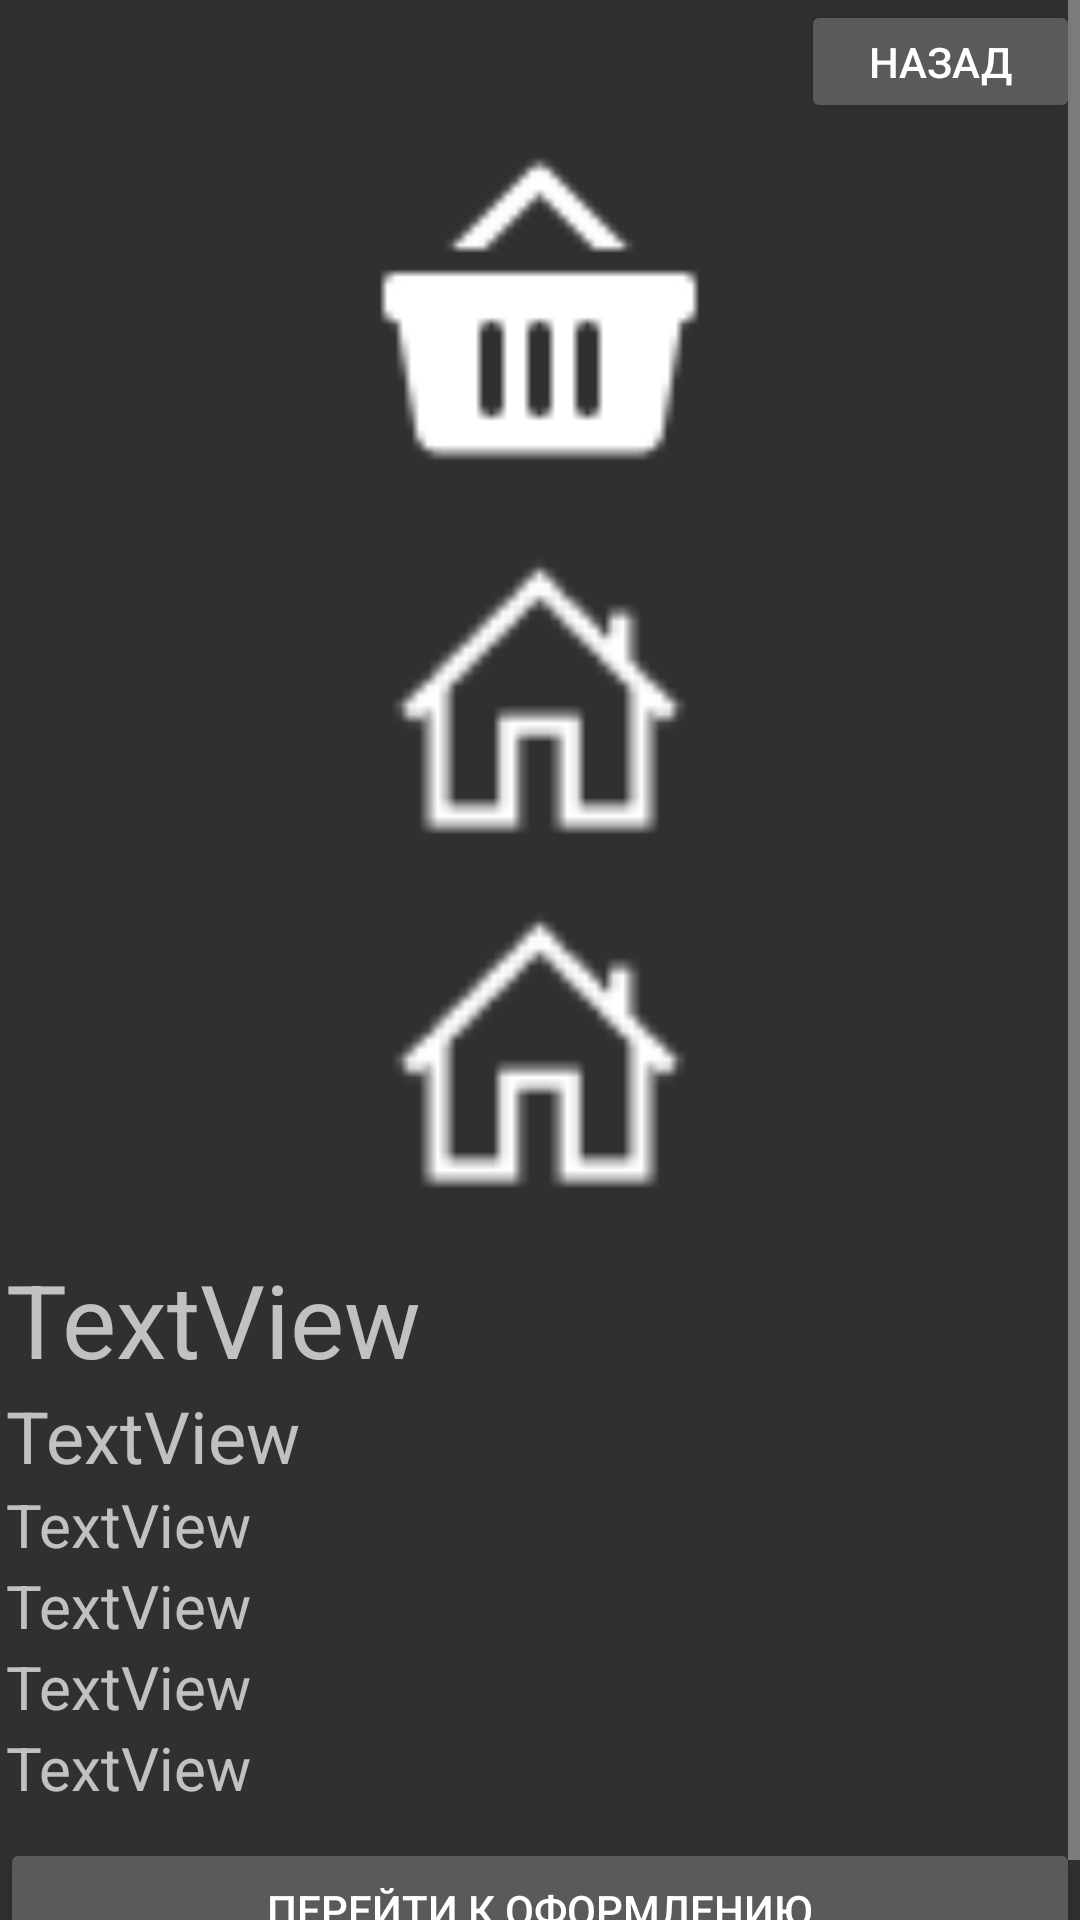

Point at icon controls on the screen. Image size 1080×1920, points as (x,y).
basket: (539,309)
home: (539,699), (539,1053)
